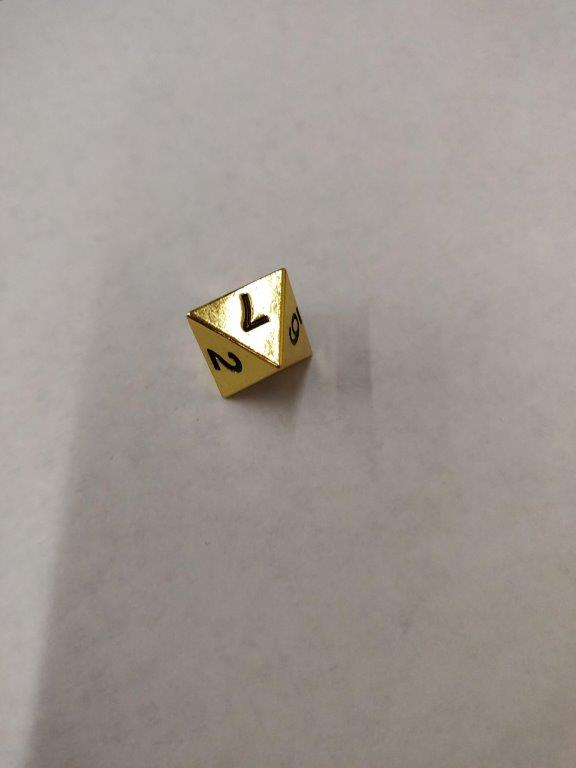d8-7: (184, 270, 313, 400)
